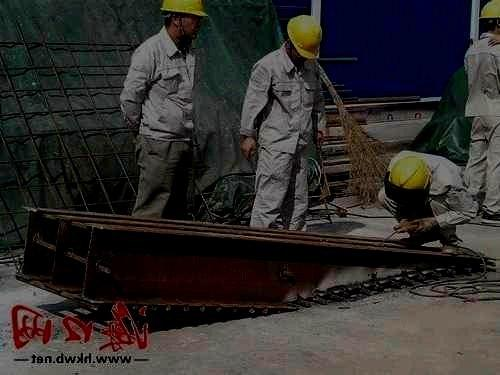helmet: (160, 1, 209, 40), (286, 15, 322, 64), (390, 155, 432, 190), (478, 1, 500, 33)
